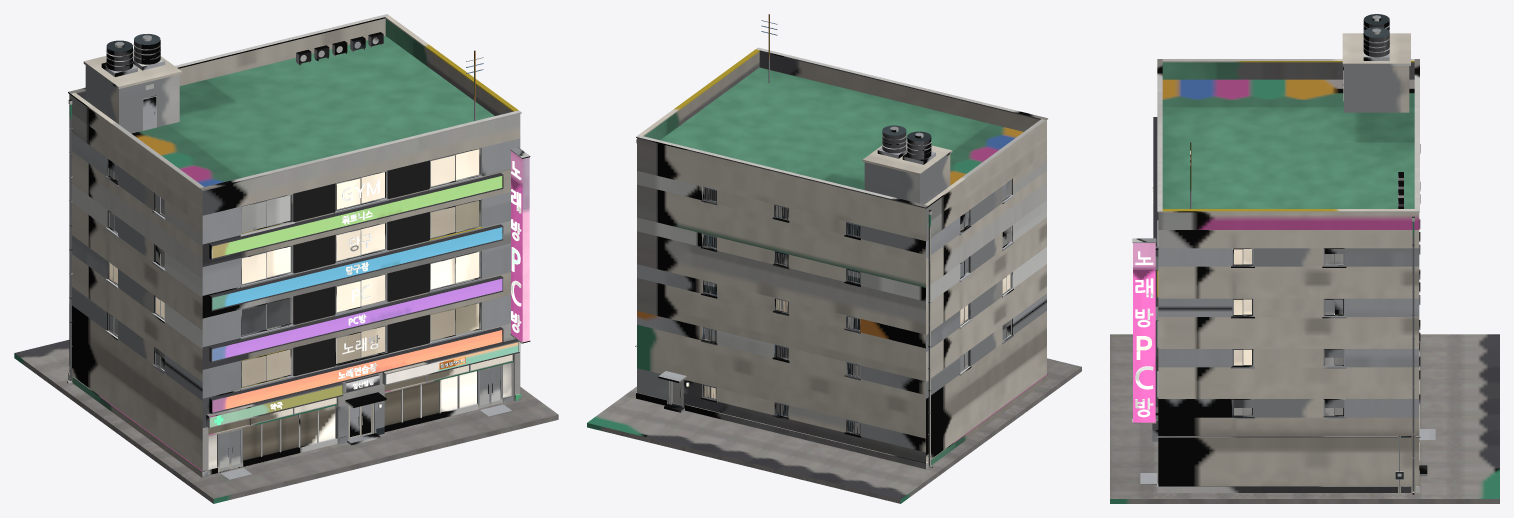
Rendered from IlsanMixed01.fbx.
The picture shows the model from 3 angles, left to right: view 1: azimuth 30°, elevation 25°; view 2: azimuth 150°, elevation 25°; view 3: azimuth 270°, elevation 25°; orthographic projection. The views are drawn at different scales.
Parts seen in each view (by area): view 1: IlsanMixed01; view 2: IlsanMixed01; view 3: IlsanMixed01.
Part boxes in pixels (x1=…): IlsanMixed01: x1=14, y1=14, x2=558, y2=503; IlsanMixed01: x1=587, y1=14, x2=1081, y2=503; IlsanMixed01: x1=1110, y1=14, x2=1499, y2=503.
Bounding box in the file's own units: 23.9 × 23.15 × 23.9.
1 material, 1 textured.
